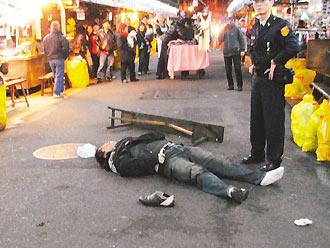10+: (39, 1, 304, 208)
down: (91, 129, 288, 206)
